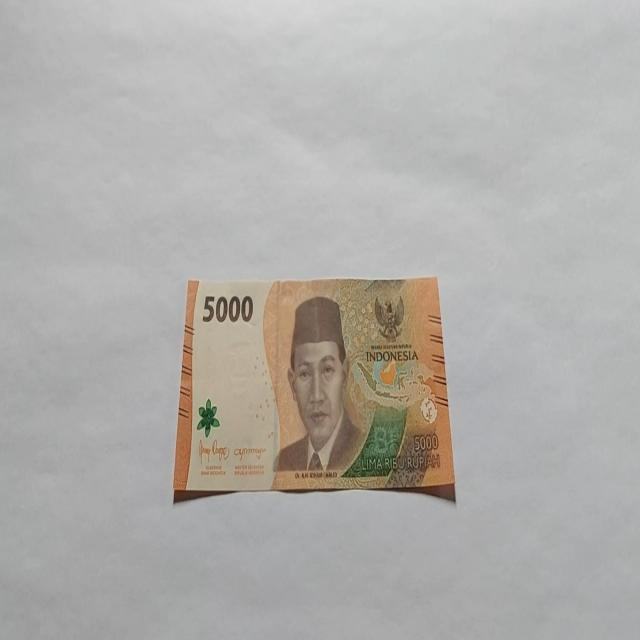lima ribu rupiah: (172, 274, 456, 504), (271, 294, 366, 479)
